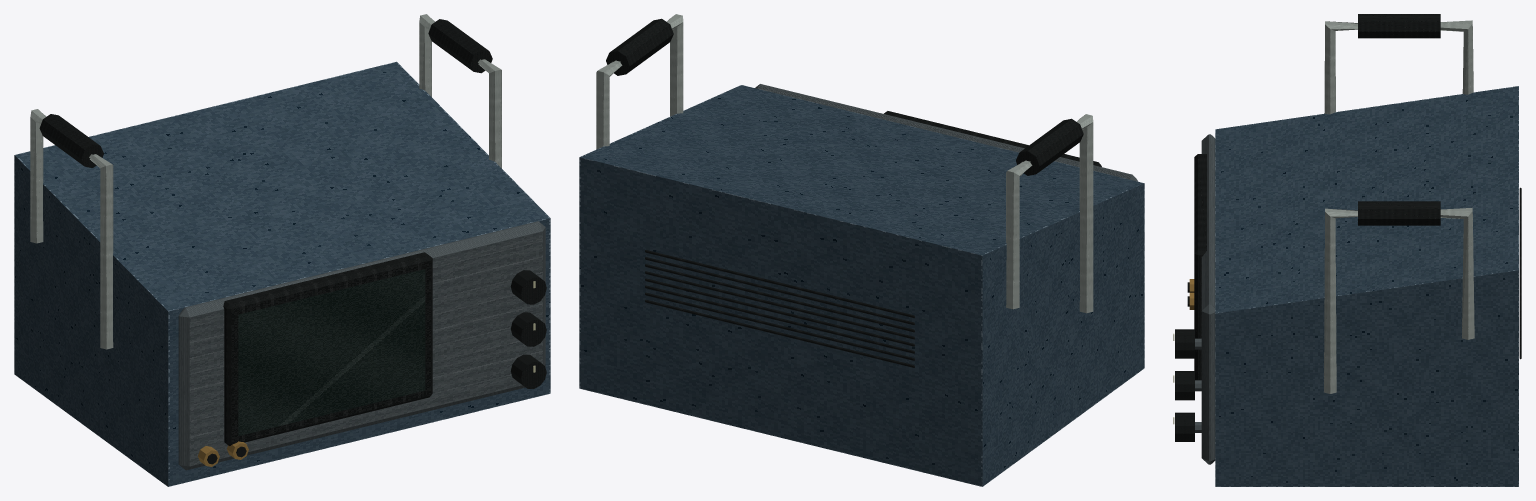
The model's file is blender_spectral_frequency_analyzer_2.glb.
3 views of the same model, side by side, from view 1: azimuth 30°, elevation 25°; view 2: azimuth 150°, elevation 25°; view 3: azimuth 270°, elevation 25° (orthographic). The views are drawn at different scales.
Parts seen in each view (by area): view 1: blender_spectral_frequency_analyzer_2; view 2: blender_spectral_frequency_analyzer_2; view 3: blender_spectral_frequency_analyzer_2.
Boxes of the visible parts, x1=… form: blender_spectral_frequency_analyzer_2: x1=14, y1=14, x2=550, y2=486; blender_spectral_frequency_analyzer_2: x1=579, y1=14, x2=1144, y2=486; blender_spectral_frequency_analyzer_2: x1=1173, y1=14, x2=1521, y2=486.
Bounding box in the file's own units: 0.255 × 0.172 × 0.1893.
7 materials, 7 textured.
